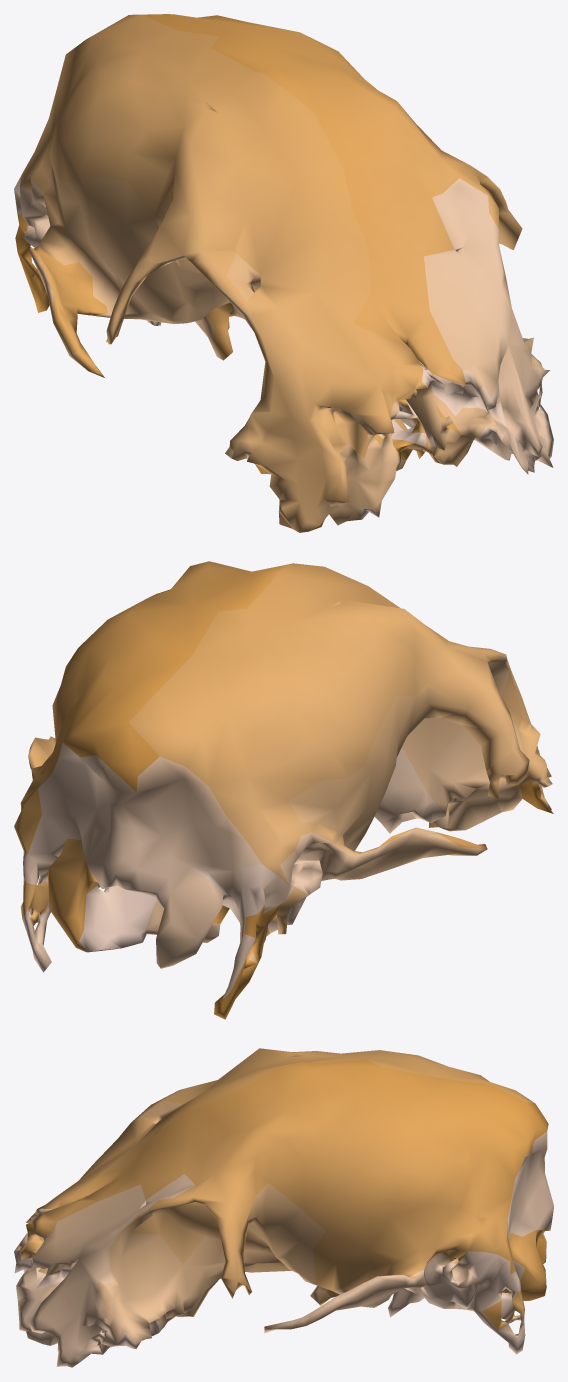
Rendered from Fossil5.fbx.
3 views of the same model, one above another, from view 1: azimuth 30°, elevation 25°; view 2: azimuth 150°, elevation 25°; view 3: azimuth 270°, elevation 25° (orthographic). The views are drawn at different scales.
Visible parts, largest first — view 1: vikkdgxaa_LOD0_TIER3_000; view 2: vikkdgxaa_LOD0_TIER3_000; view 3: vikkdgxaa_LOD0_TIER3_000.
Boxes of the visible parts, bbox=[...] form: vikkdgxaa_LOD0_TIER3_000: bbox=[14, 14, 553, 532]; vikkdgxaa_LOD0_TIER3_000: bbox=[14, 561, 553, 1019]; vikkdgxaa_LOD0_TIER3_000: bbox=[14, 1048, 553, 1367].
Bounding box in the file's own units: 7.27 × 5.41 × 10.4.
